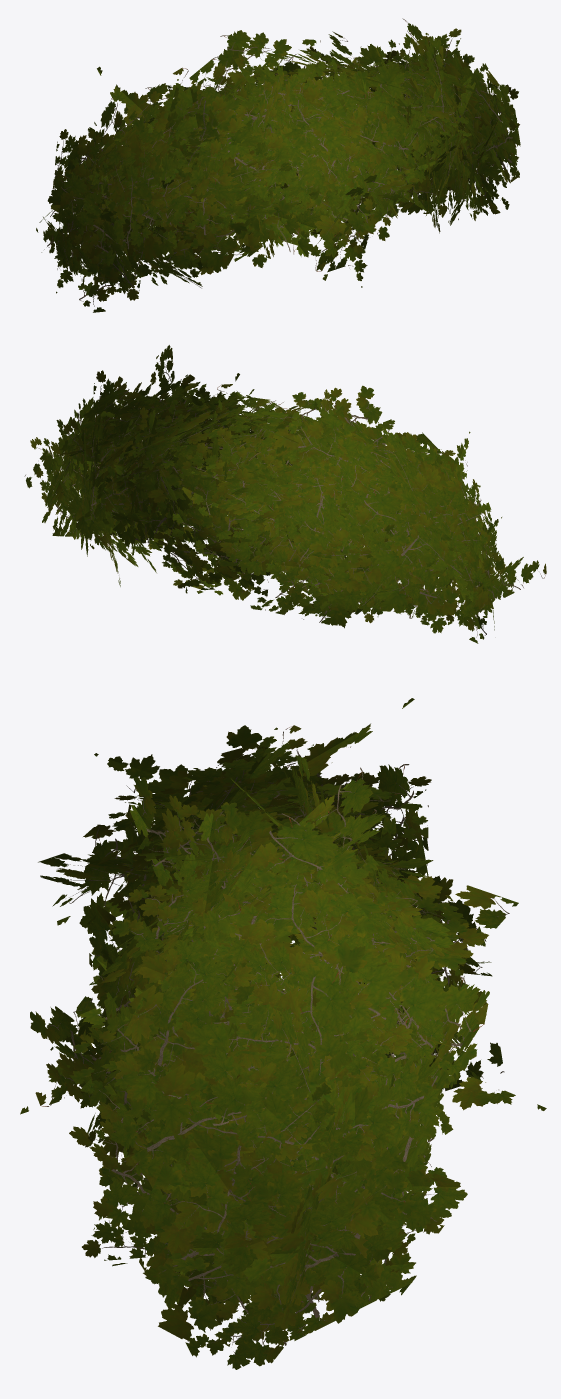
Rendered from pv_hedge.fbx.
The picture shows the model from 3 angles, top to bottom: view 1: azimuth 30°, elevation 25°; view 2: azimuth 150°, elevation 25°; view 3: azimuth 270°, elevation 25°; orthographic projection. The views are drawn at different scales.
Visible parts, largest first — view 1: pv_hedge_LOD0; view 2: pv_hedge_LOD0; view 3: pv_hedge_LOD0.
Part boxes in pixels (x1,y1,x2,y2): pv_hedge_LOD0: [36, 18, 520, 312]; pv_hedge_LOD0: [24, 345, 546, 643]; pv_hedge_LOD0: [20, 698, 546, 1369].
Size of what is drawn, in the model's own units: 3.54 by 1.49 by 1.68.
